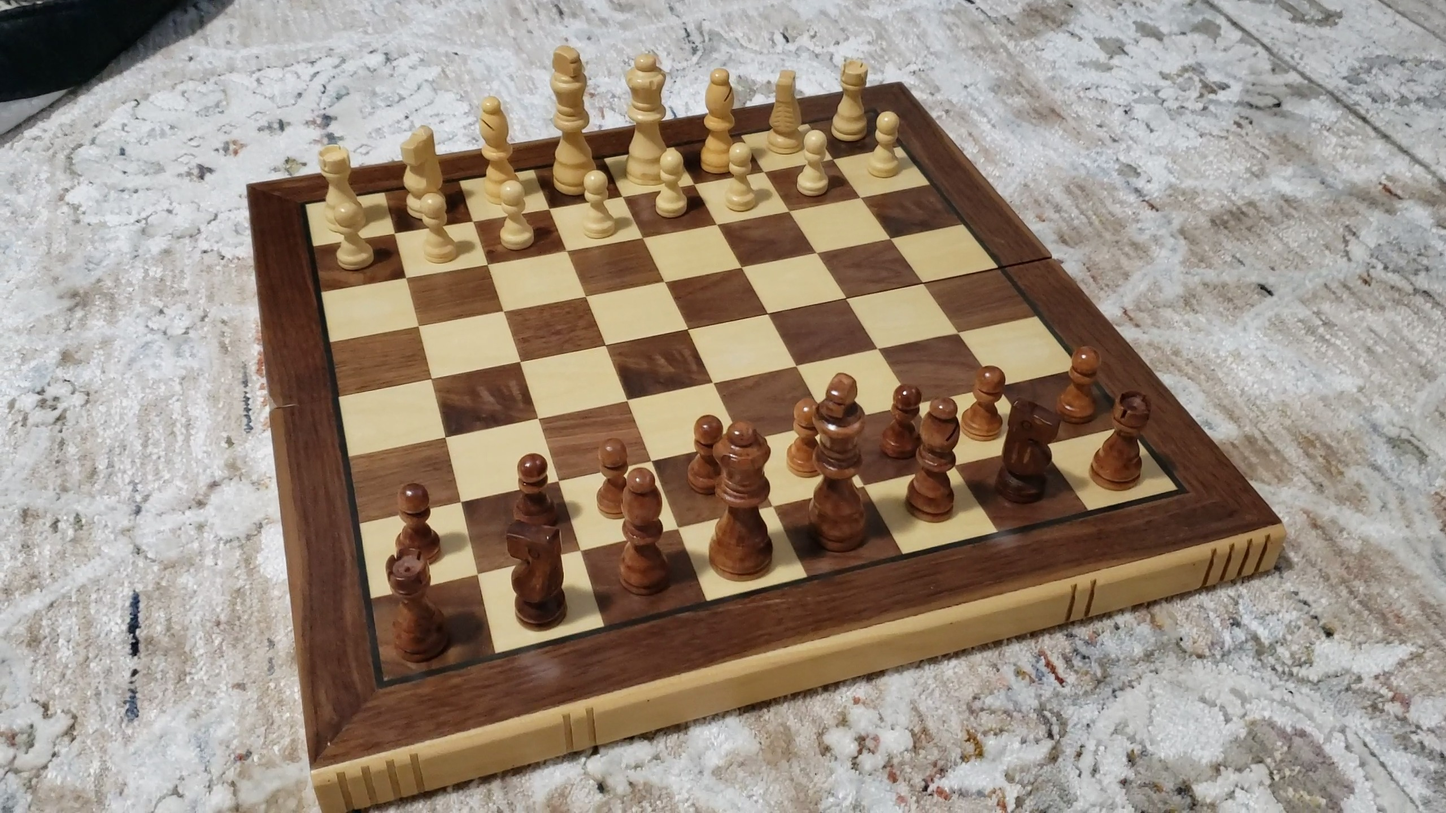black-bishop: (907, 394, 962, 522), (617, 462, 669, 597)
black-king: (805, 367, 869, 554)
black-knight: (502, 519, 569, 631), (992, 397, 1060, 505)
black-pawn: (392, 480, 444, 568), (1056, 343, 1105, 425), (962, 362, 1008, 441), (881, 381, 925, 461), (685, 412, 725, 496), (513, 450, 555, 525), (787, 392, 823, 479), (594, 435, 631, 518)
black-queen: (704, 417, 778, 582)
black-rook: (383, 553, 451, 665), (1090, 391, 1153, 492)
white-bishop: (475, 91, 518, 206), (699, 64, 738, 177)
white-king: (547, 41, 594, 198)
white-knight: (398, 121, 448, 225), (760, 66, 811, 158)
white-pawn: (322, 199, 383, 277), (407, 188, 463, 269), (487, 172, 539, 256), (574, 166, 623, 246), (647, 144, 695, 225), (862, 107, 910, 183), (717, 137, 762, 216), (791, 125, 837, 202)
white-queen: (624, 47, 669, 187)
white-rook: (315, 142, 375, 238), (831, 55, 870, 145)
